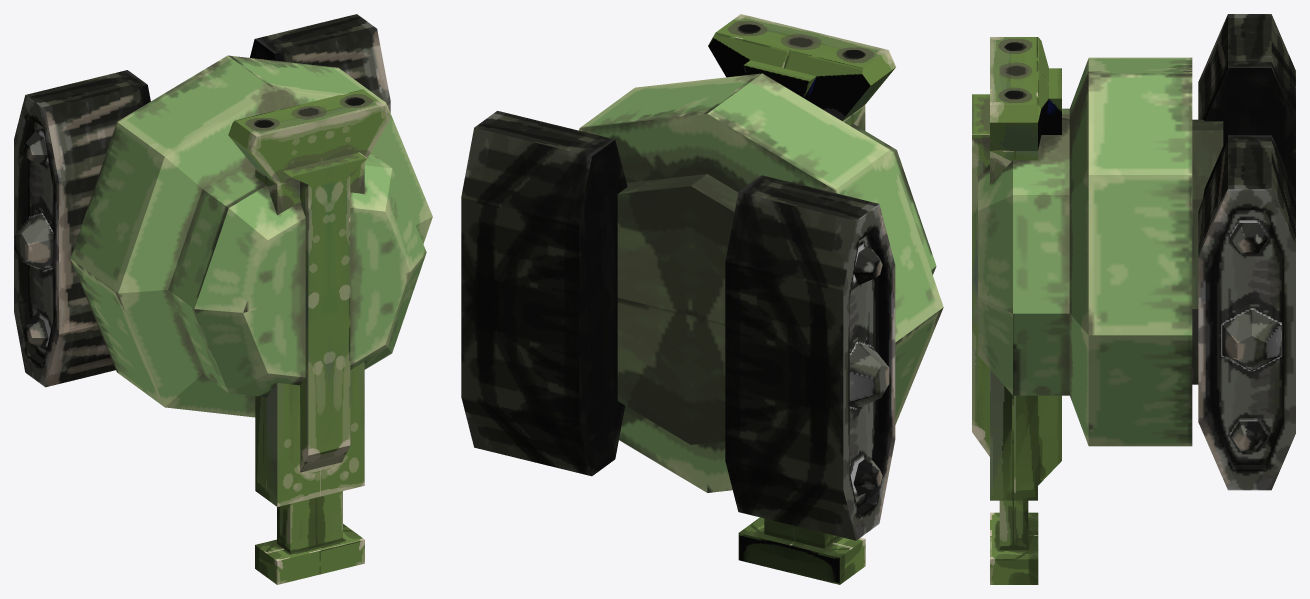
Rendered from turret.glb.
3 views of the same model, side by side, from view 1: azimuth 30°, elevation 25°; view 2: azimuth 150°, elevation 25°; view 3: azimuth 270°, elevation 25° (orthographic). The views are drawn at different scales.
Parts seen in each view (by area): view 1: Cube, Plane.001, Plane; view 2: Plane, Cube, Plane.001; view 3: Cube, Plane, Plane.001.
Part boxes in pixels (x1,y1,x2,y2): Cube: (70,55,432,417); Plane.001: (228,89,391,584); Plane: (14,14,390,387); Plane: (461,111,895,540); Cube: (579,73,943,492); Plane.001: (708,14,895,584); Cube: (978,57,1223,446); Plane: (1198,14,1295,490); Plane.001: (972,37,1061,584).
Size of the model in its own units: 6.9 by 8.36 by 5.
3 materials, 3 textured.
